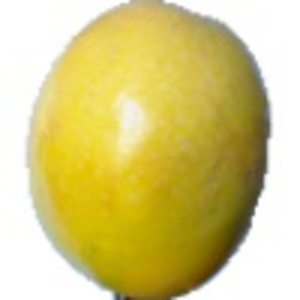maracujá: (25, 1, 287, 300)
